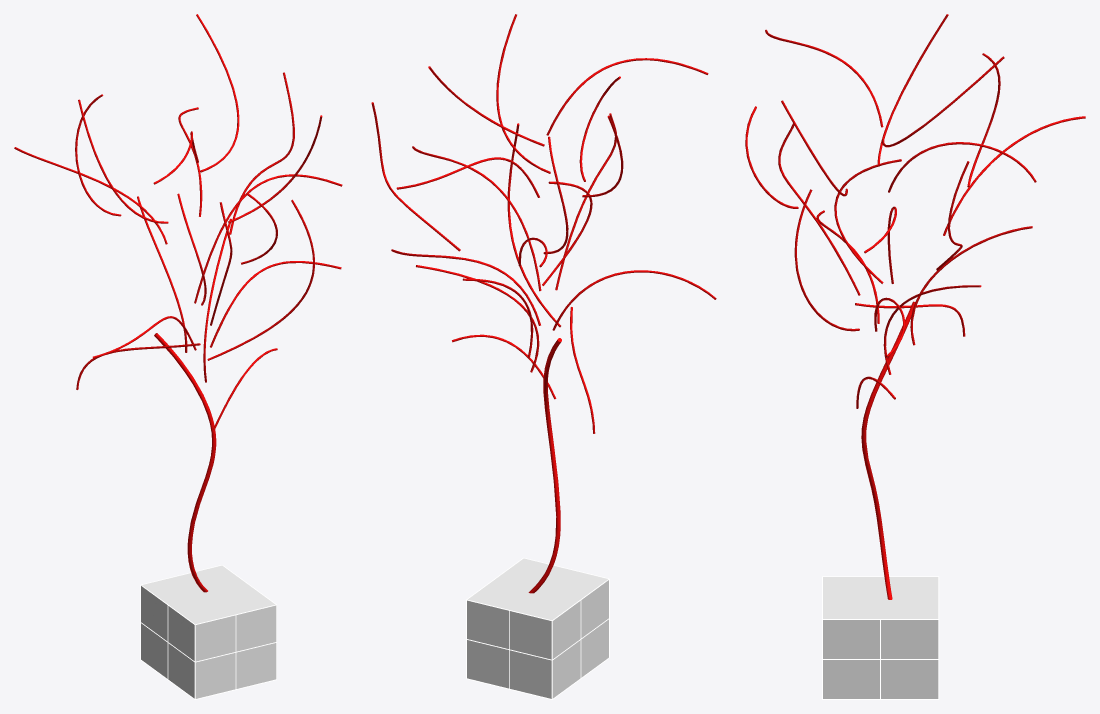
Rendered from ME-TREE-X-red2-v110.glb.
3 views of the same model, side by side, from view 1: azimuth 30°, elevation 25°; view 2: azimuth 150°, elevation 25°; view 3: azimuth 270°, elevation 25° (orthographic). The views are drawn at different scales.
Visible parts, largest first — view 1: ME-TREE-X-red, Merged Objects 2; view 2: ME-TREE-X-red, Merged Objects 2; view 3: ME-TREE-X-red, Merged Objects 2.
Part boxes in pixels (box(x1,y1,x2,y2)): ME-TREE-X-red: box(14, 14, 342, 698); Merged Objects 2: box(140, 565, 276, 699); ME-TREE-X-red: box(371, 14, 716, 698); Merged Objects 2: box(466, 557, 609, 699); ME-TREE-X-red: box(745, 14, 1085, 698); Merged Objects 2: box(822, 576, 939, 699).
Size of the model in its own units: 1.62 by 3.34 by 1.6.
